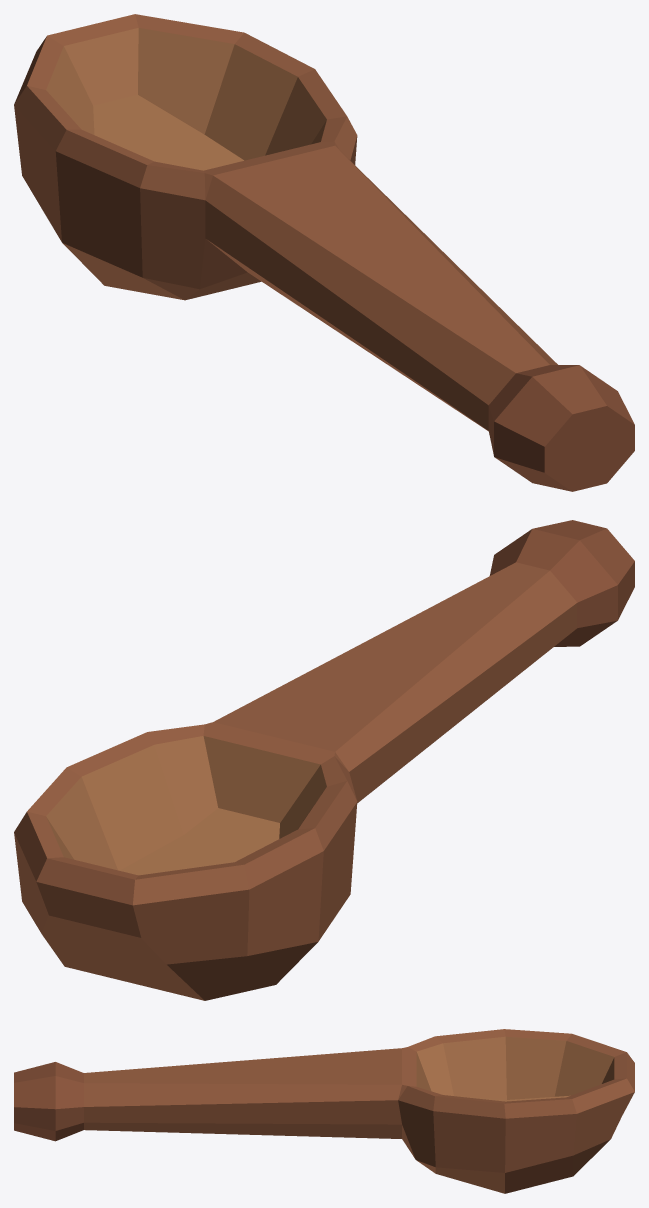
The model's file is spoon.fbx.
3 views of the same model, one above another, from view 1: azimuth 30°, elevation 25°; view 2: azimuth 150°, elevation 25°; view 3: azimuth 270°, elevation 25° (orthographic). The views are drawn at different scales.
Parts seen in each view (by area): view 1: spoon; view 2: spoon; view 3: spoon.
Boxes of the visible parts, x1,y1,x2,y2 form: spoon: (14, 14, 634, 491); spoon: (14, 520, 634, 1000); spoon: (14, 1029, 634, 1193).
Size of the model in its own units: 9.79 by 5.85 by 31.98.
